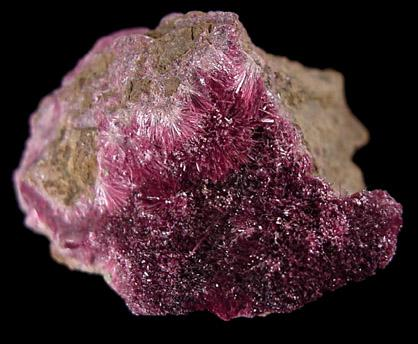erythrite: (21, 26, 403, 320)
